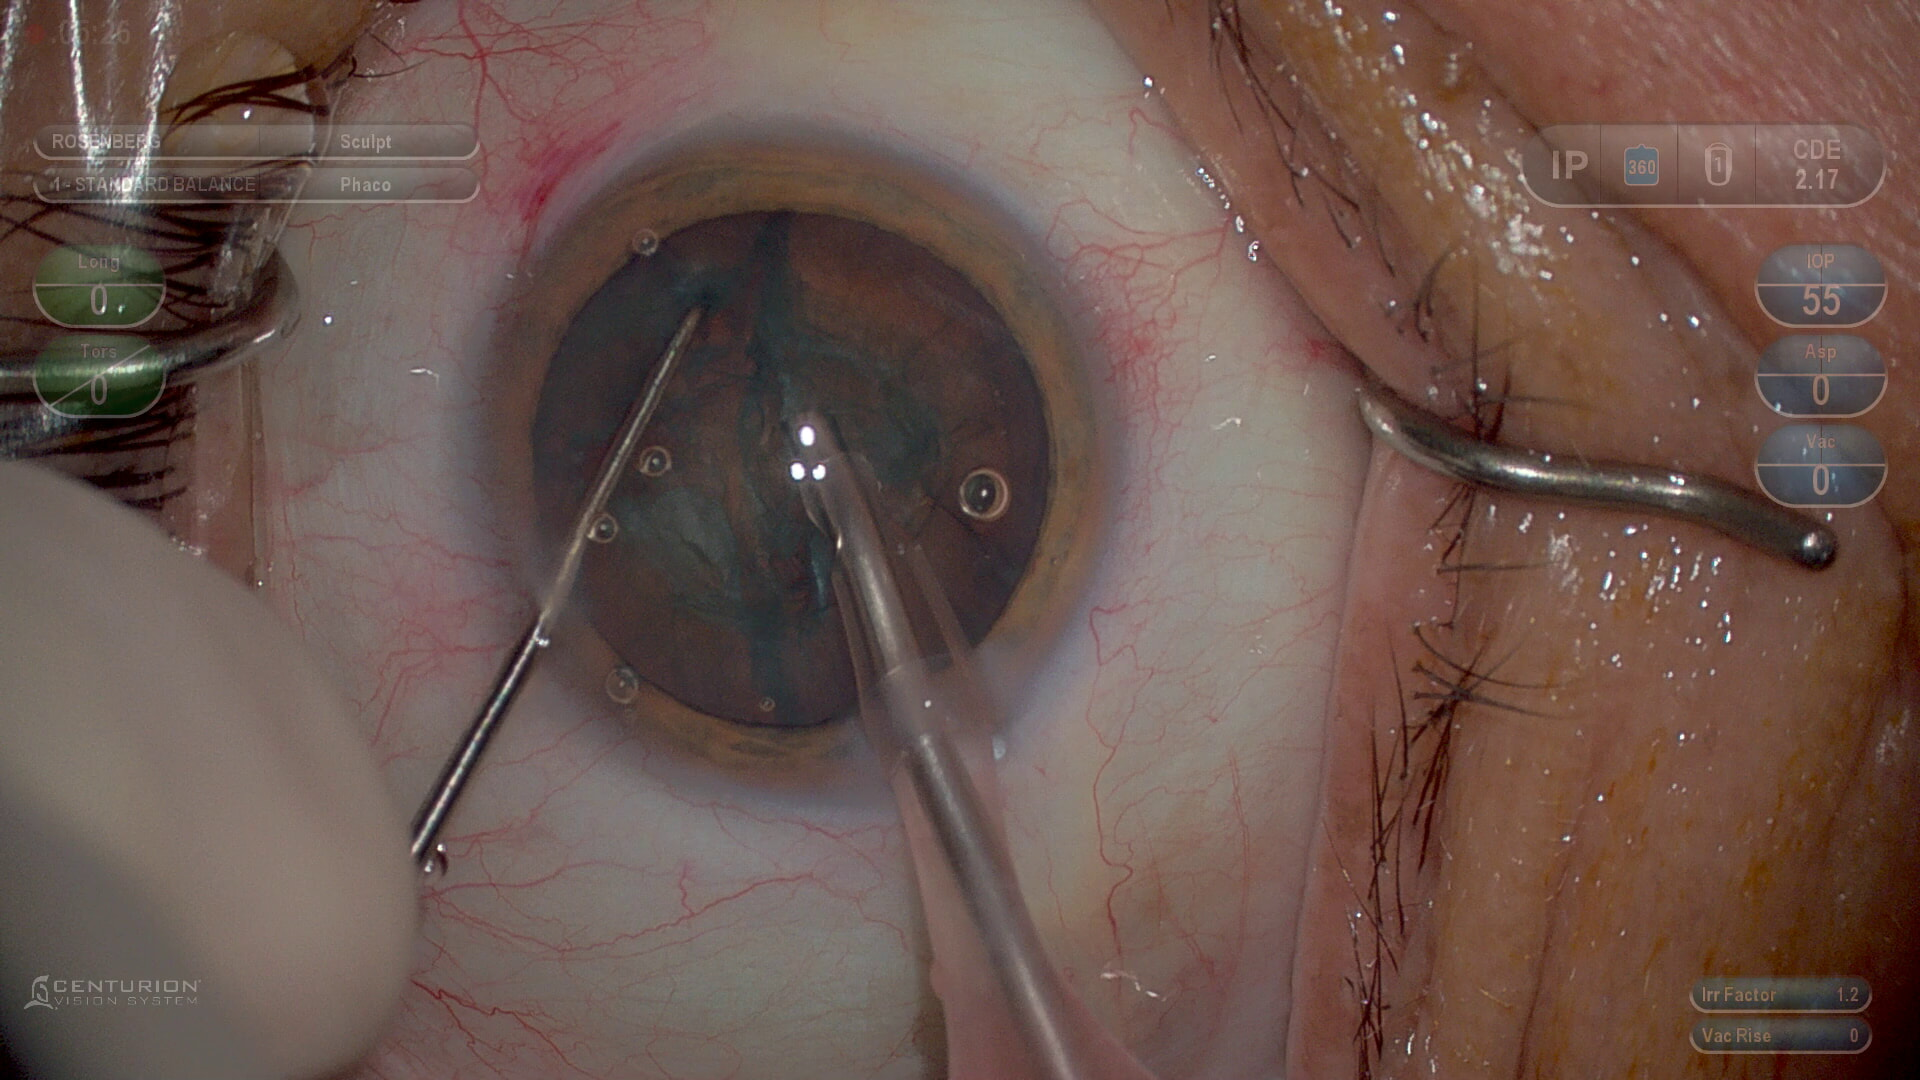iris: (493, 136, 1113, 785)
pupil: (527, 209, 1057, 724)
